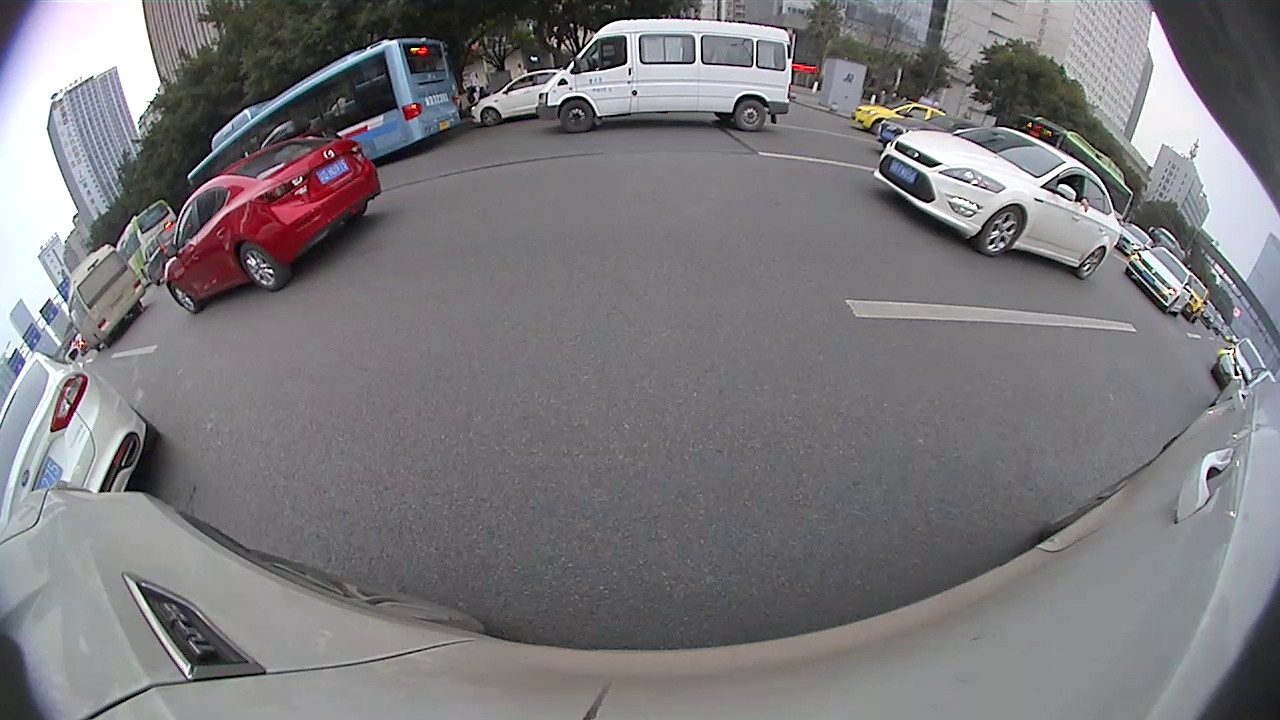bus: (188, 38, 460, 198), (67, 247, 145, 345)
car: (166, 137, 381, 313), (878, 128, 1119, 278), (540, 20, 794, 132), (3, 353, 159, 535), (473, 70, 586, 127), (1124, 248, 1193, 316), (149, 218, 189, 286)
front: (982, 203, 1023, 258), (558, 99, 596, 135), (167, 279, 198, 314), (480, 107, 500, 127)
rear: (236, 238, 282, 294), (1076, 244, 1107, 280), (734, 101, 767, 131)
